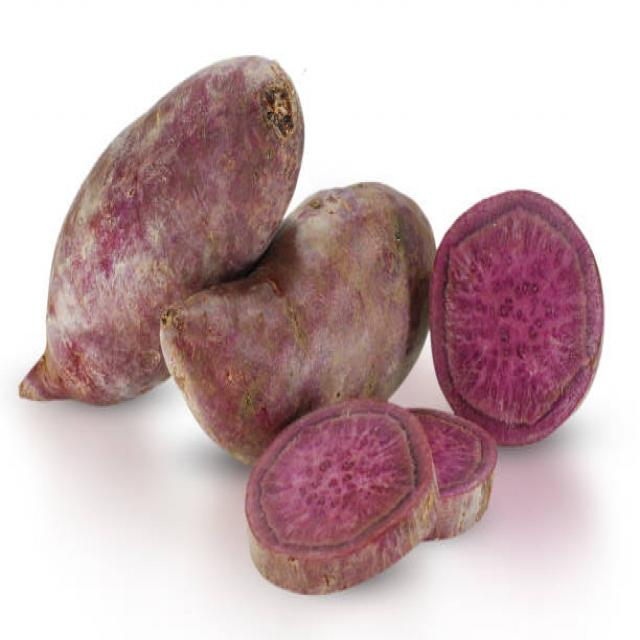sweet potato: (434, 185, 600, 447), (16, 139, 152, 420), (248, 396, 437, 595), (148, 40, 302, 274), (279, 180, 433, 400)
